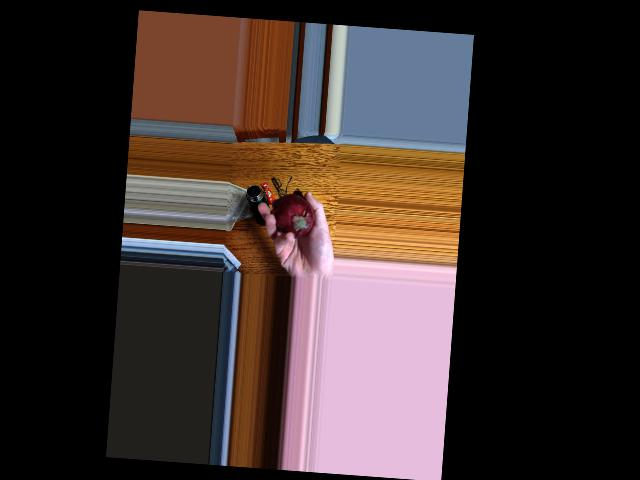onion: (277, 195, 315, 238)
